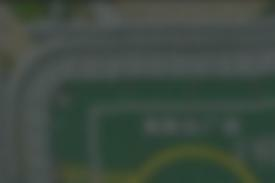Apron: (121, 139, 275, 183)
